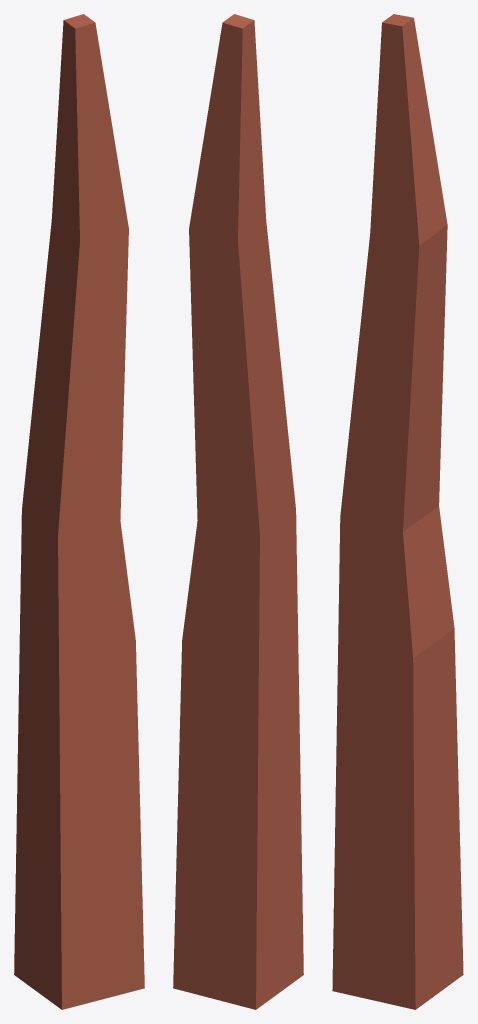
File: tree_6c.fbx
3 views of the same model, side by side, from view 1: azimuth 30°, elevation 25°; view 2: azimuth 150°, elevation 25°; view 3: azimuth 330°, elevation 25° (orthographic).
Visible parts, largest first — view 1: tree_6c; view 2: tree_6c; view 3: tree_6c.
Part boxes in pixels (left/top/right/bottom): tree_6c: left=14, top=14, right=144, bottom=1009; tree_6c: left=173, top=14, right=303, bottom=1009; tree_6c: left=332, top=14, right=463, bottom=1009.
Bounding box in the file's own units: 49.99 × 554 × 50.
